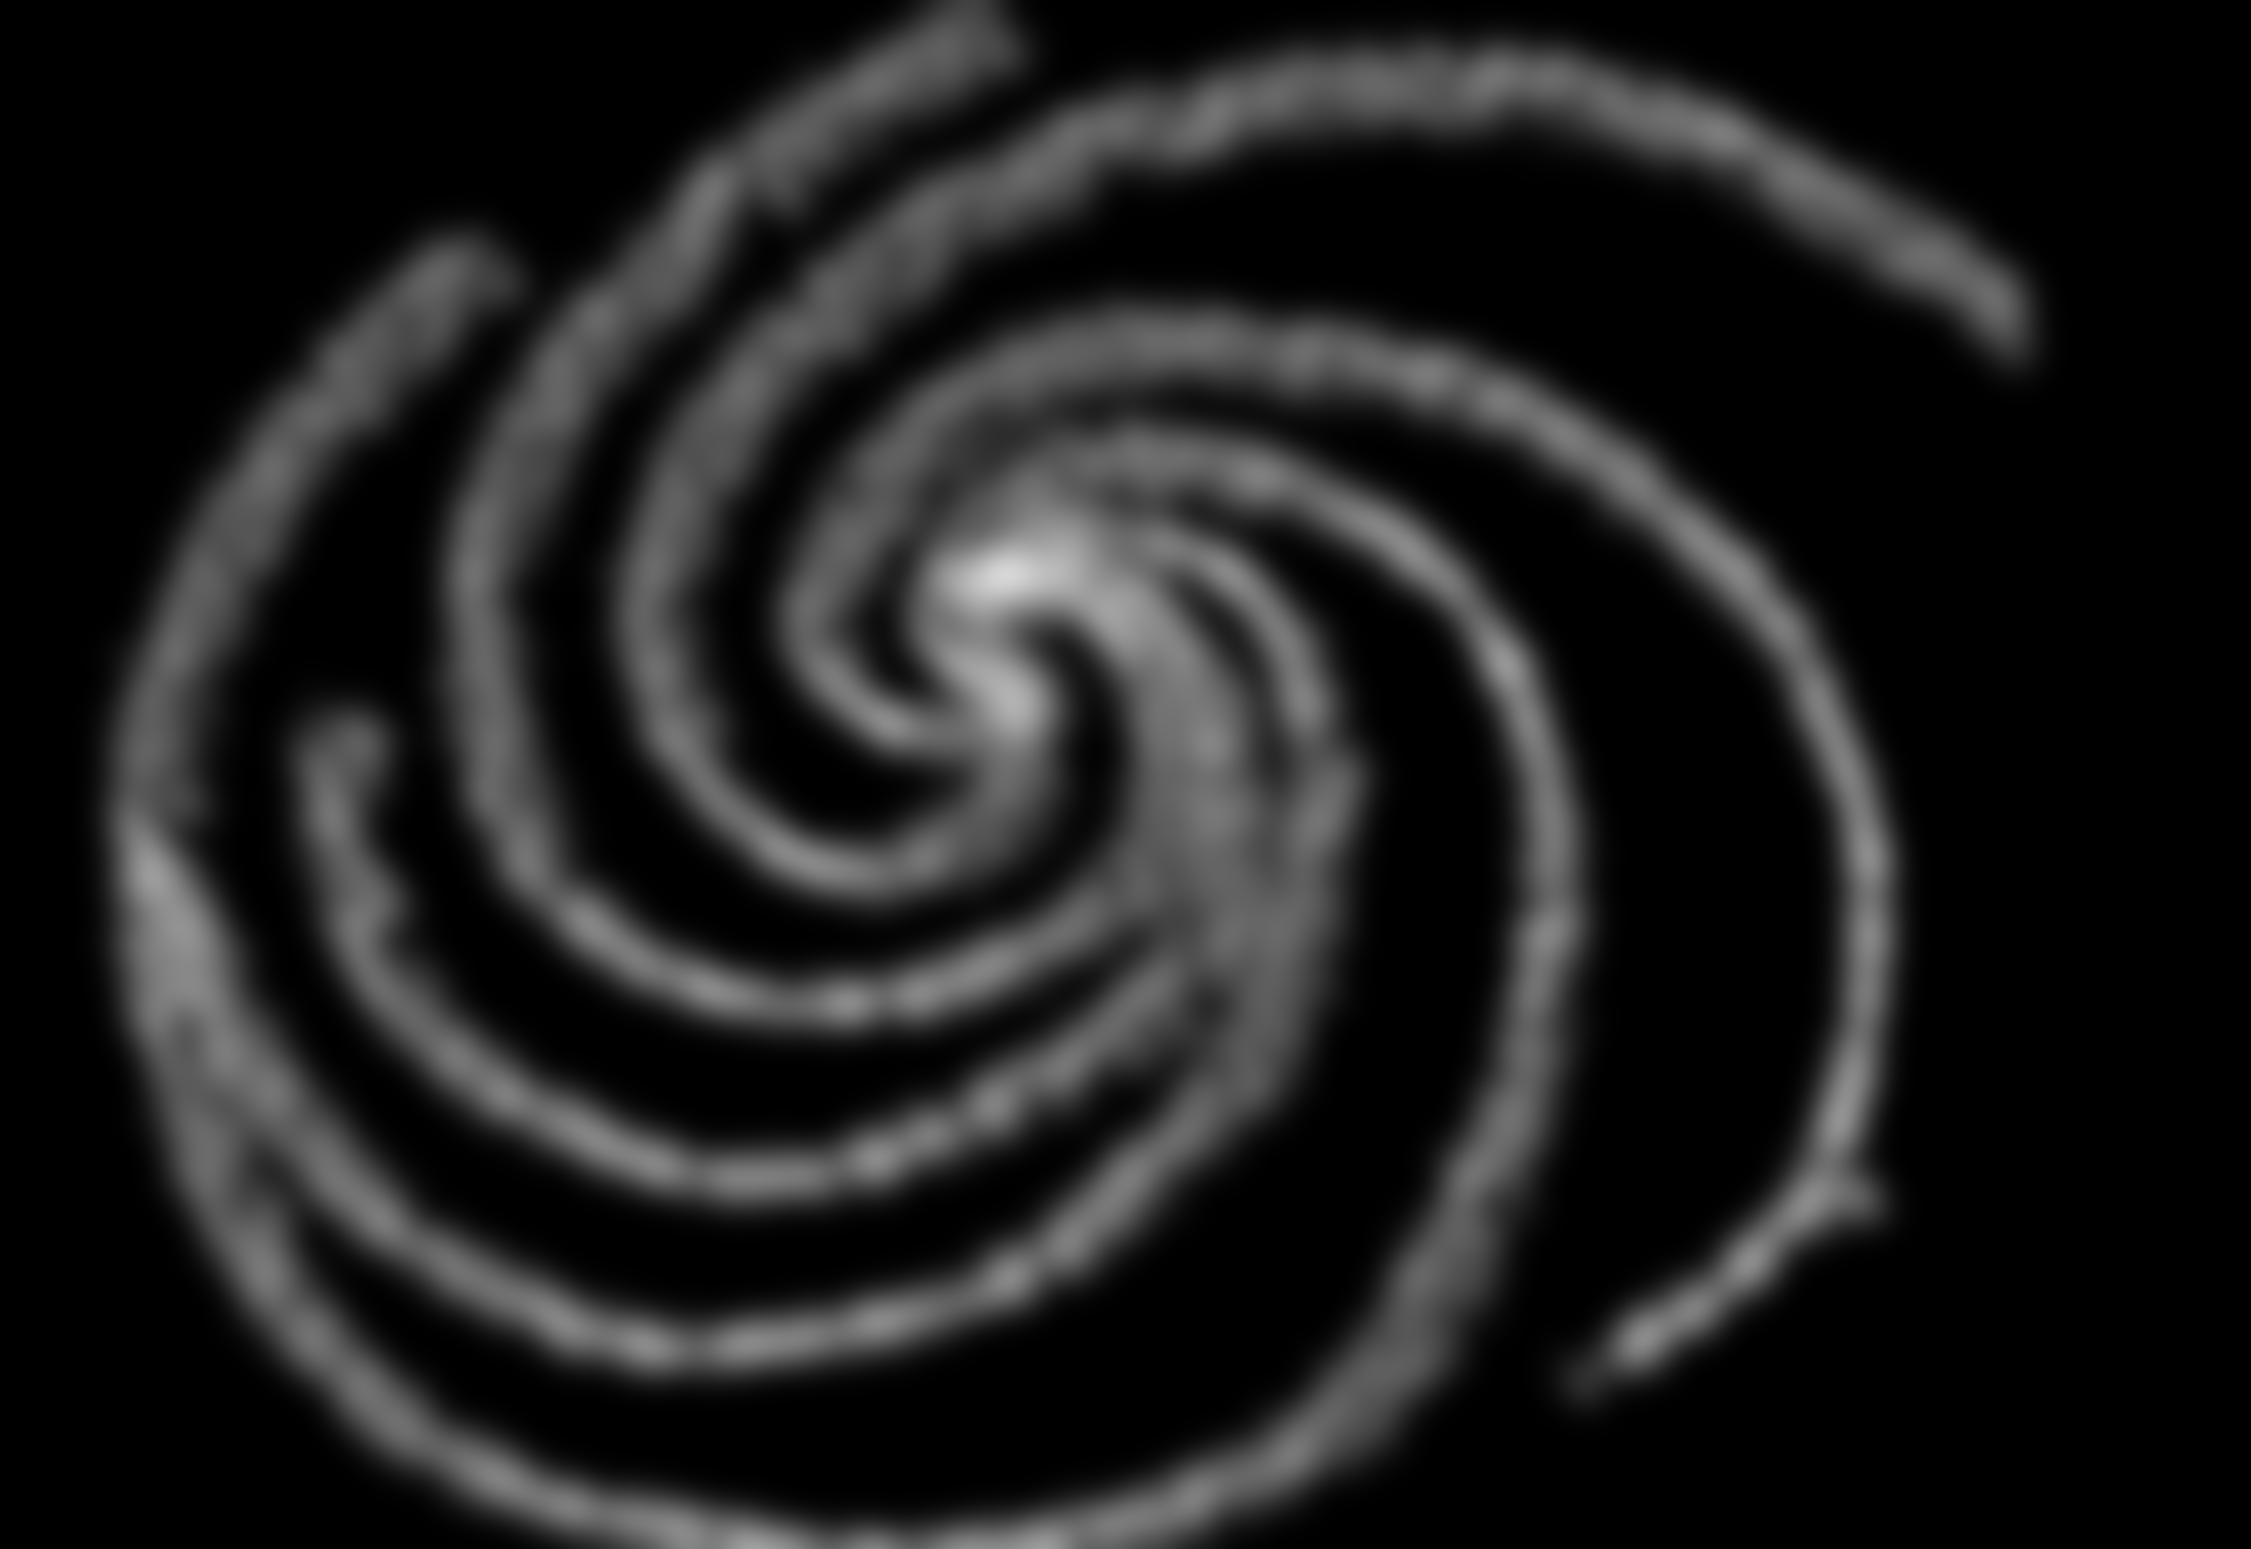vortex: (55, 10, 2094, 1527)
